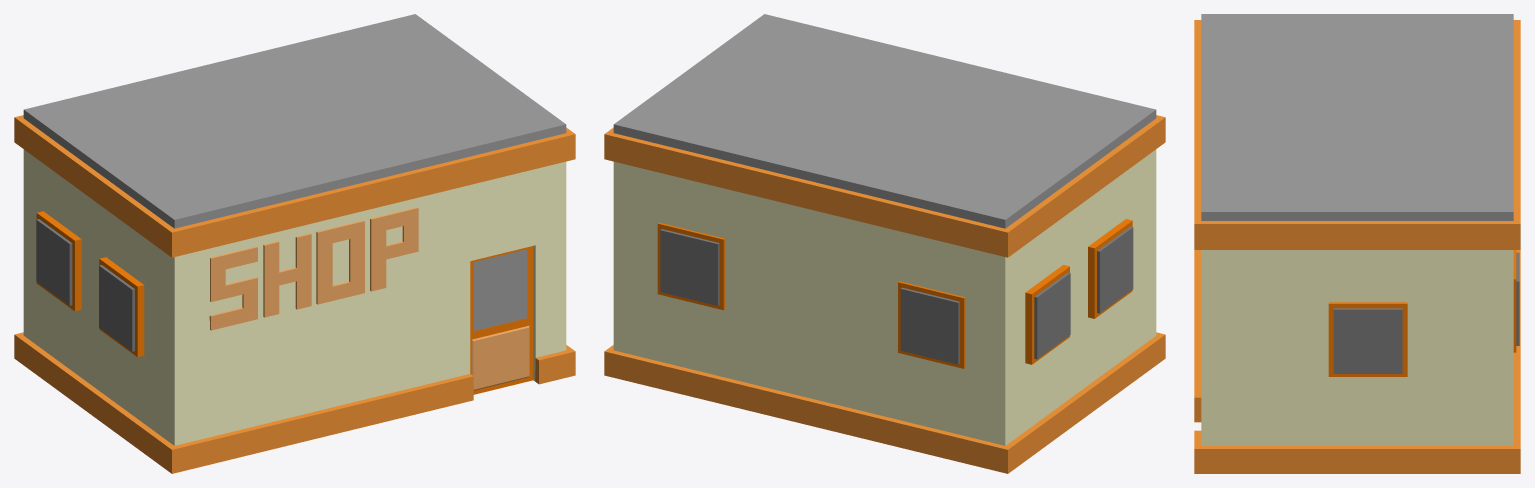
File: SM_House_02_01.FBX
3 renders of one model, left to right at view 1: azimuth 30°, elevation 25°; view 2: azimuth 150°, elevation 25°; view 3: azimuth 270°, elevation 25°, orthographic. The views are drawn at different scales.
Parts seen in each view (by area): view 1: SM_House_02; view 2: SM_House_02; view 3: SM_House_02.
Boxes of the visible parts, left/top/right/bottom form: SM_House_02: left=14, top=14, right=575, bottom=473; SM_House_02: left=604, top=14, right=1165, bottom=473; SM_House_02: left=1194, top=14, right=1520, bottom=473.
Bounding box in the file's own units: 6.24 × 3.66 × 4.18.
1 material, 1 textured.
